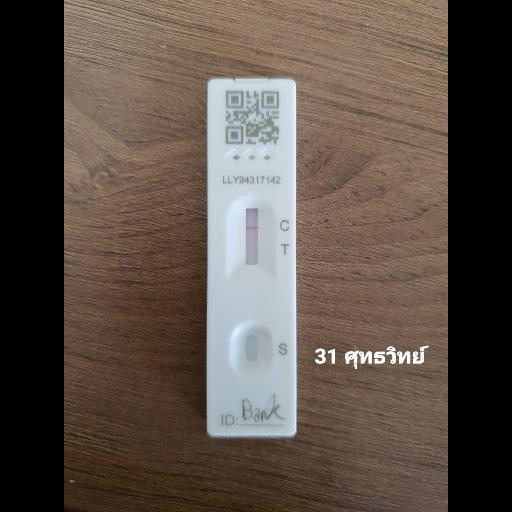Neg: (208, 79, 298, 435)
